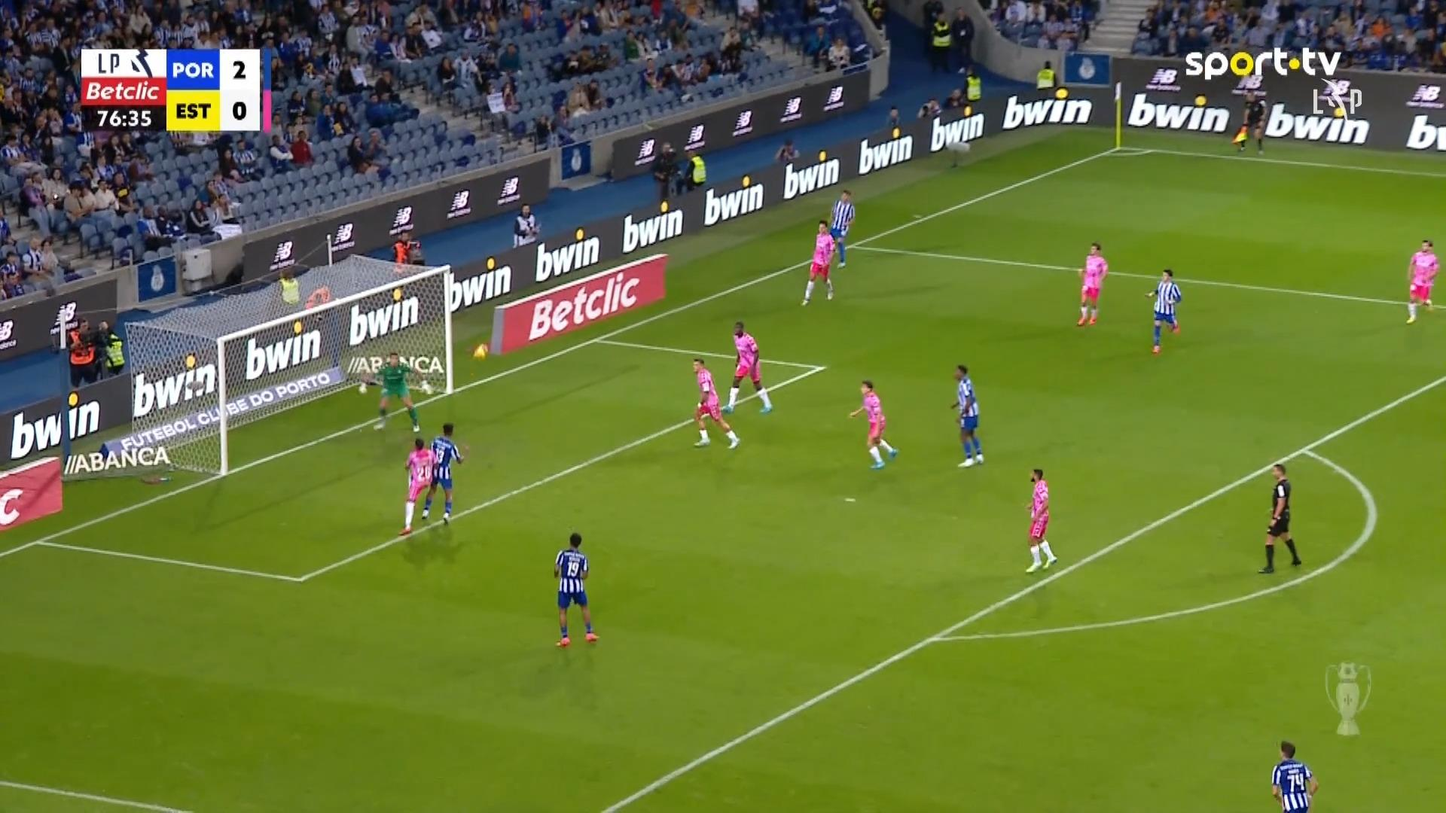ball: (473, 343, 487, 358)
goalkeeper: (357, 350, 429, 432)
player: (552, 531, 599, 647), (419, 422, 468, 525), (721, 320, 773, 414), (847, 379, 898, 469), (691, 357, 740, 449), (398, 437, 435, 535), (949, 364, 984, 467), (1023, 467, 1057, 573), (1271, 739, 1317, 811), (1145, 267, 1182, 354), (801, 219, 837, 306), (1405, 238, 1438, 323), (1075, 241, 1107, 326), (828, 188, 854, 268), (1319, 76, 1347, 119)
referee: (1258, 462, 1301, 573), (1231, 88, 1267, 154)
